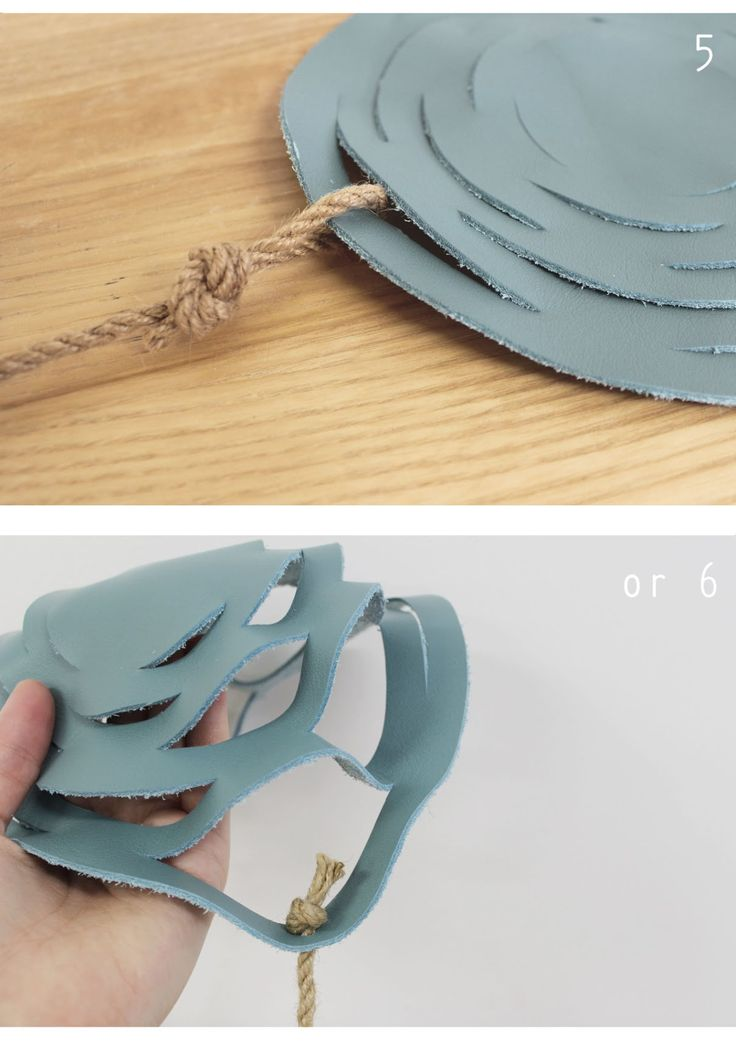cuero: (3, 15, 736, 952)
